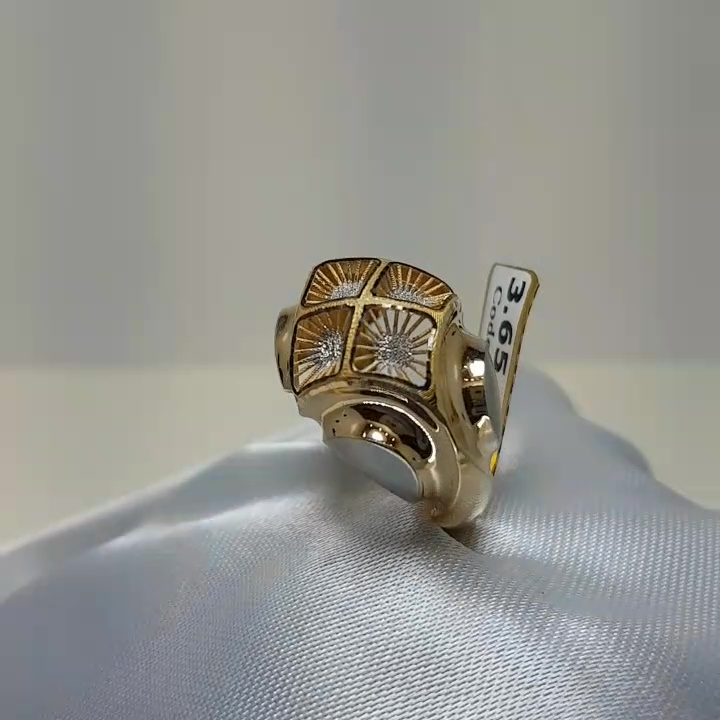Ring 2: (243, 236, 533, 553)
